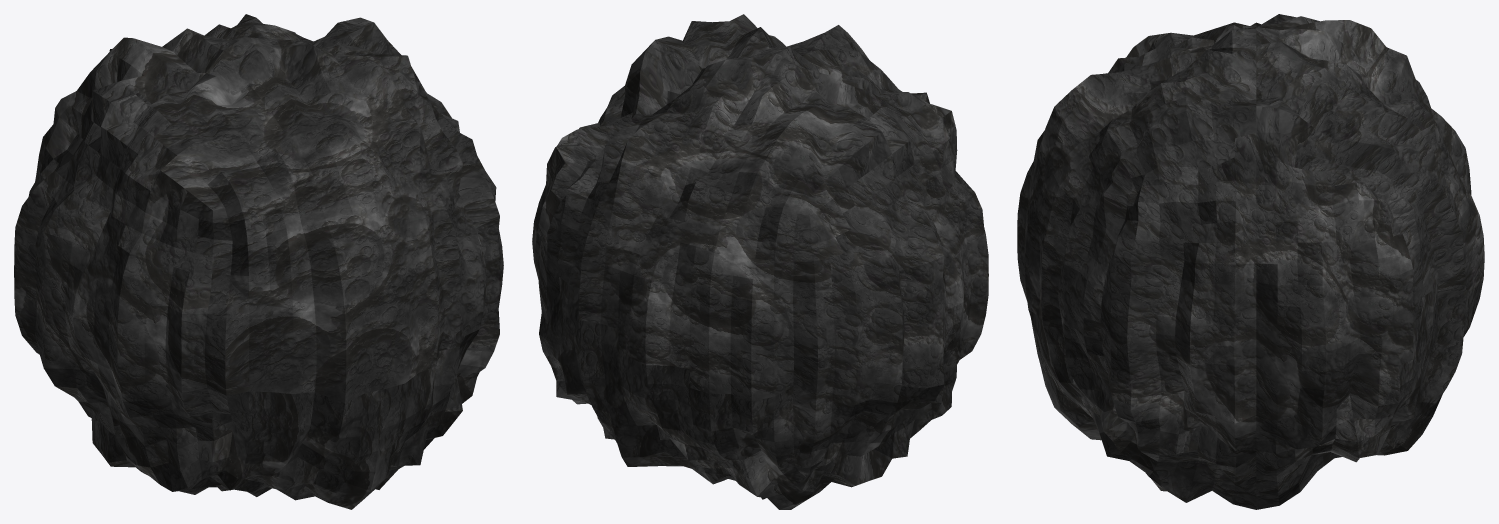
The model's file is asteroid24.obj.
3 renders of one model, left to right at view 1: azimuth 30°, elevation 25°; view 2: azimuth 150°, elevation 25°; view 3: azimuth 270°, elevation 25°, orthographic. The views are drawn at different scales.
Parts seen in each view (by area): view 1: Cube_Cube.002; view 2: Cube_Cube.002; view 3: Cube_Cube.002.
Boxes of the visible parts, x1=… form: Cube_Cube.002: x1=14, y1=14, x2=503, y2=509; Cube_Cube.002: x1=532, y1=14, x2=988, y2=509; Cube_Cube.002: x1=1017, y1=14, x2=1484, y2=509.
Size of the model in its own units: 1.72 by 1.81 by 1.76.
